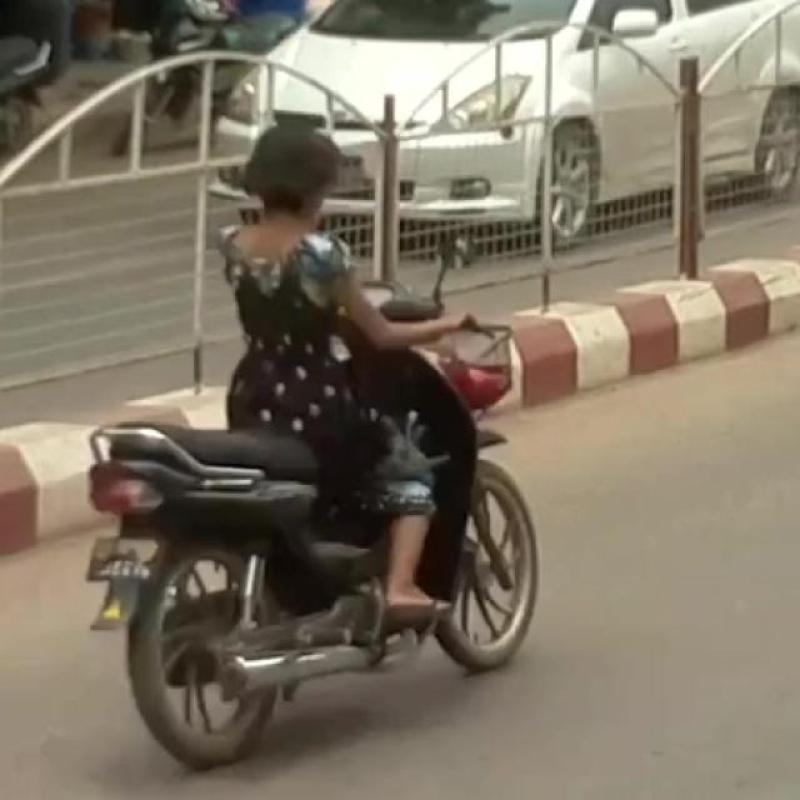nohelmet: (222, 99, 373, 229)
